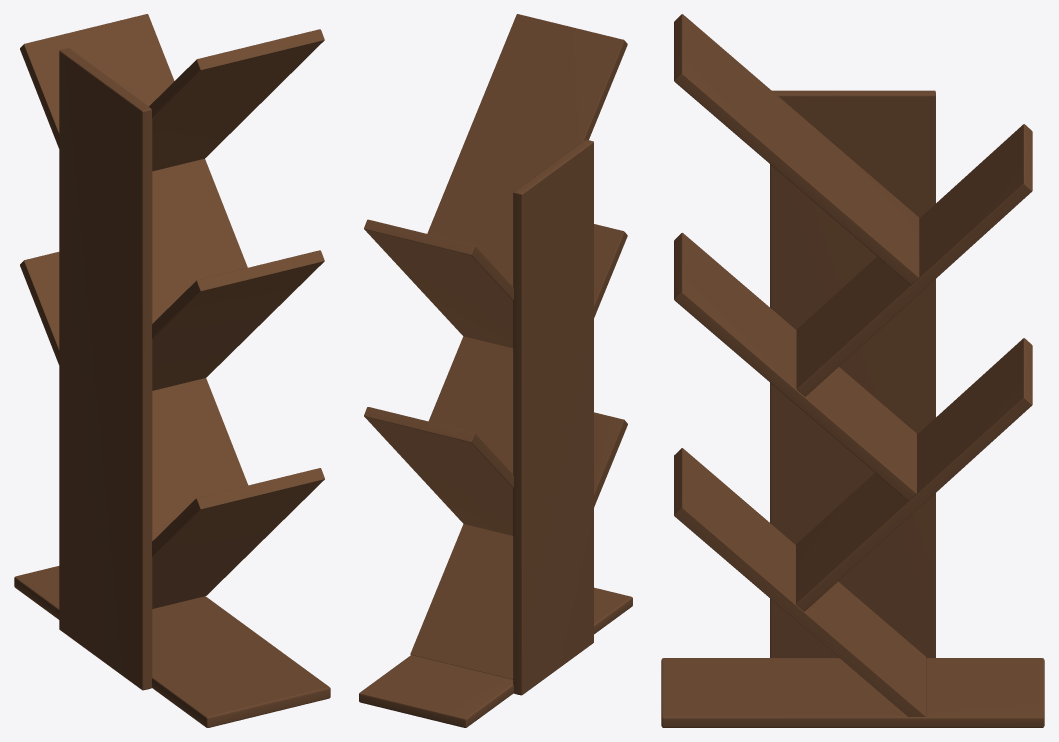
The model's file is Rack.fbx.
3 views of the same model, side by side, from view 1: azimuth 30°, elevation 25°; view 2: azimuth 150°, elevation 25°; view 3: azimuth 270°, elevation 25° (orthographic). The views are drawn at different scales.
Parts seen in each view (by area): view 1: Rack; view 2: Rack; view 3: Rack.
Part boxes in pixels (left/top/right/bottom): Rack: left=14, top=14, right=330, bottom=727; Rack: left=359, top=14, right=632, bottom=727; Rack: left=661, top=14, right=1044, bottom=727.
Size of the model in its own units: 47.34 by 223 by 118.
